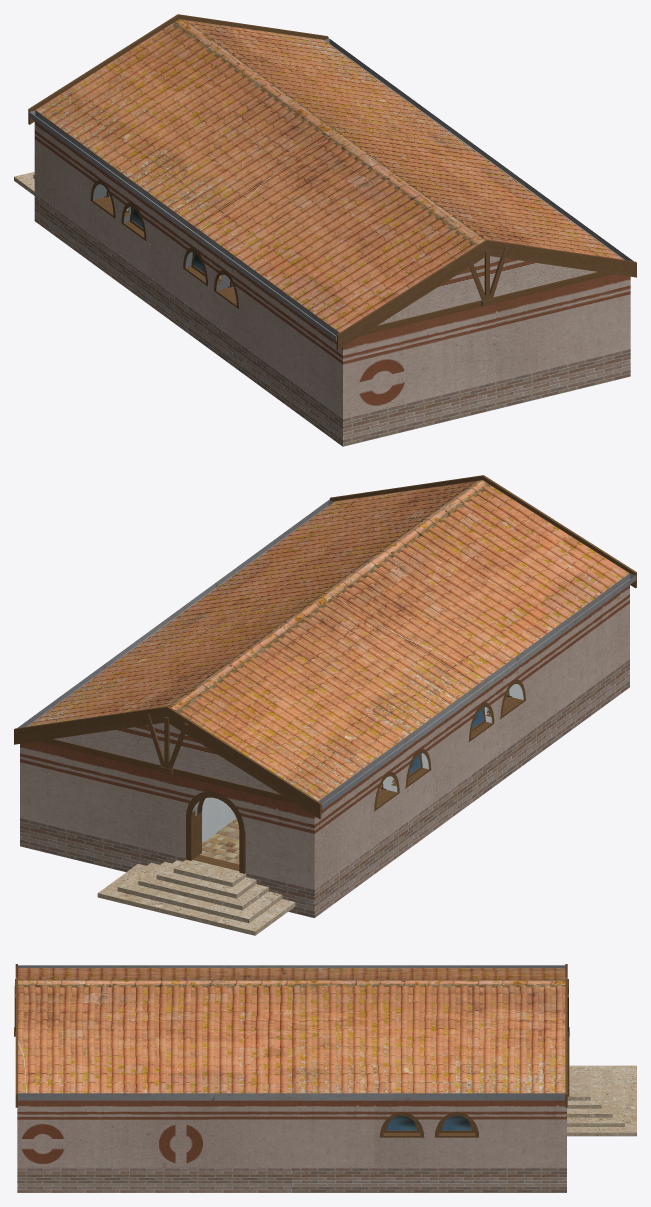
The model's file is Building02.fbx.
3 views of the same model, one above another, from view 1: azimuth 30°, elevation 25°; view 2: azimuth 150°, elevation 25°; view 3: azimuth 270°, elevation 25° (orthographic). The views are drawn at different scales.
Visible parts, largest first — view 1: Building02_01:Building; view 2: Building02_01:Building; view 3: Building02_01:Building.
Part boxes in pixels (bbox=[...]): Building02_01:Building: bbox=[14, 14, 636, 446]; Building02_01:Building: bbox=[14, 475, 636, 935]; Building02_01:Building: bbox=[14, 964, 636, 1192].
Size of the model in its own units: 1126 by 614 by 2267.
Materials: 13 (13 with a texture image).
